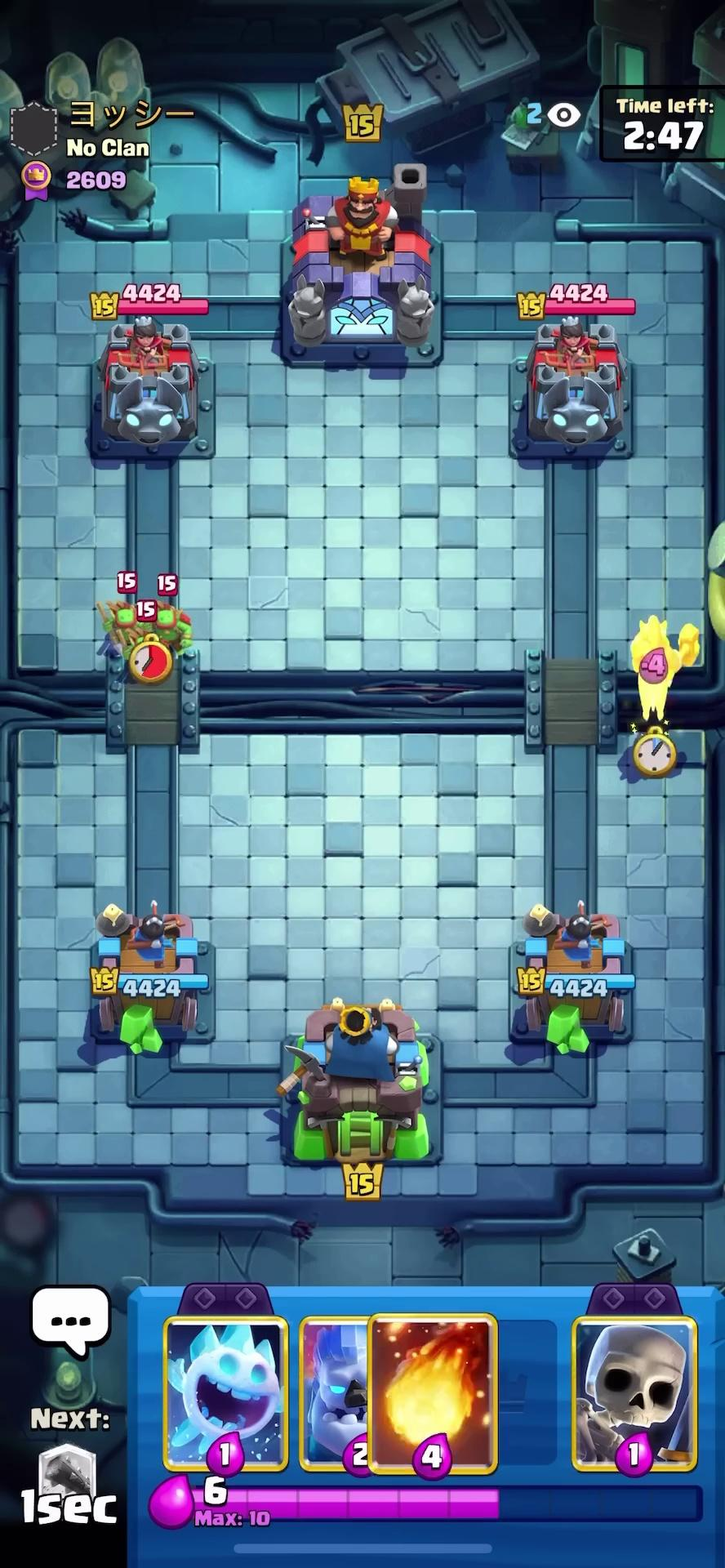hog_rider: (612, 610, 706, 715)
